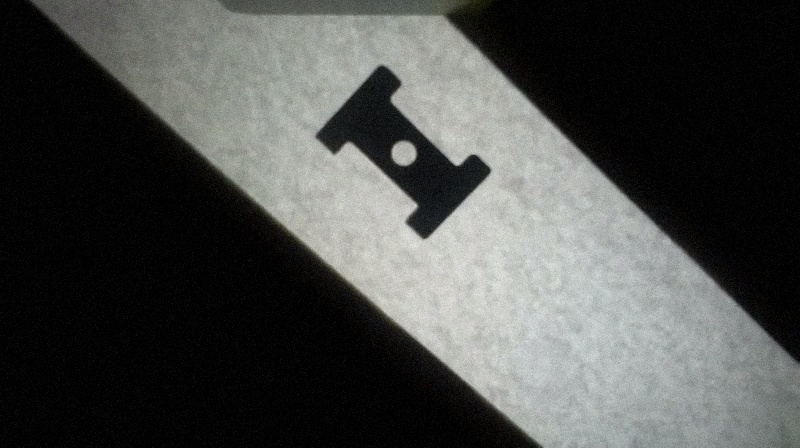O002: (312, 62, 496, 241)
